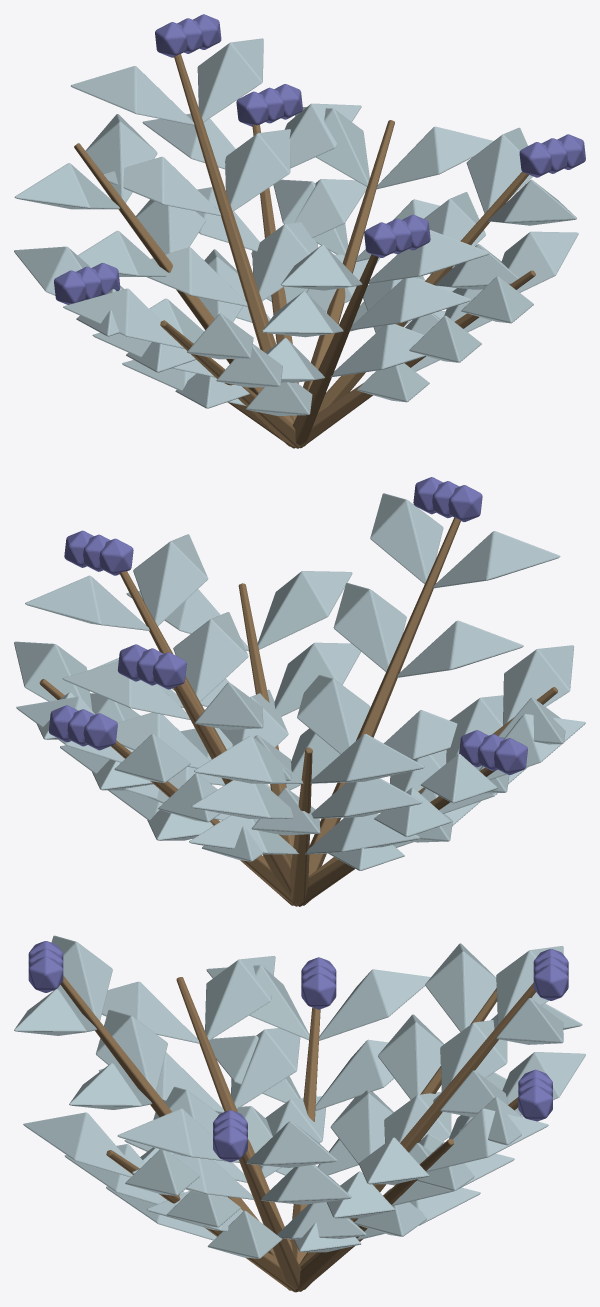
Rendered from frost_shrub.glb.
3 renders of one model, top to bottom at view 1: azimuth 30°, elevation 25°; view 2: azimuth 150°, elevation 25°; view 3: azimuth 270°, elevation 25°, orthographic. The views are drawn at different scales.
Parts seen in each view (by area): view 1: PointedLeaf.007, WoodyStem.005, Berry.005; view 2: PointedLeaf.007, WoodyStem.005, Berry.005; view 3: PointedLeaf.007, WoodyStem.005, Berry.005.
Part boxes in pixels (left/top/right/bottom): PointedLeaf.007: left=14, top=38, right=578, bottom=415; WoodyStem.005: left=74, top=54, right=535, bottom=448; Berry.005: left=54, top=14, right=585, bottom=304; PointedLeaf.007: left=14, top=493, right=585, bottom=870; WoodyStem.005: left=39, top=517, right=557, bottom=906; Berry.005: left=48, top=477, right=527, bottom=775; PointedLeaf.007: left=14, top=935, right=585, bottom=1258; WoodyStem.005: left=60, top=975, right=535, bottom=1292; Berry.005: left=28, top=941, right=568, bottom=1162.
Bounding box in the file's own units: 1.27 × 0.8107 × 1.24.
